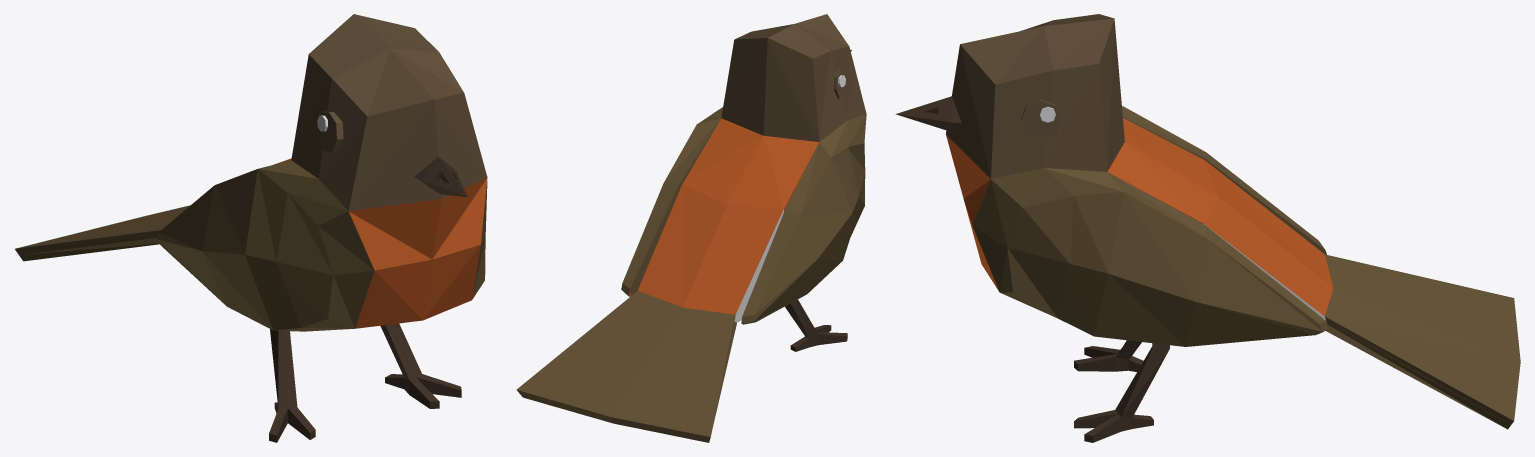
The model's file is v_robin.glb.
3 views of the same model, side by side, from view 1: azimuth 30°, elevation 25°; view 2: azimuth 150°, elevation 25°; view 3: azimuth 270°, elevation 25° (orthographic). The views are drawn at different scales.
Parts seen in each view (by area): view 1: bird_01_Cube.011; view 2: bird_01_Cube.011; view 3: bird_01_Cube.011.
Boxes of the visible parts, x1,y1,x2,y2 form: bird_01_Cube.011: (15, 14, 487, 442); bird_01_Cube.011: (516, 14, 866, 442); bird_01_Cube.011: (895, 14, 1520, 442).
Bounding box in the file's own units: 0.0652 × 0.0937 × 0.14.
